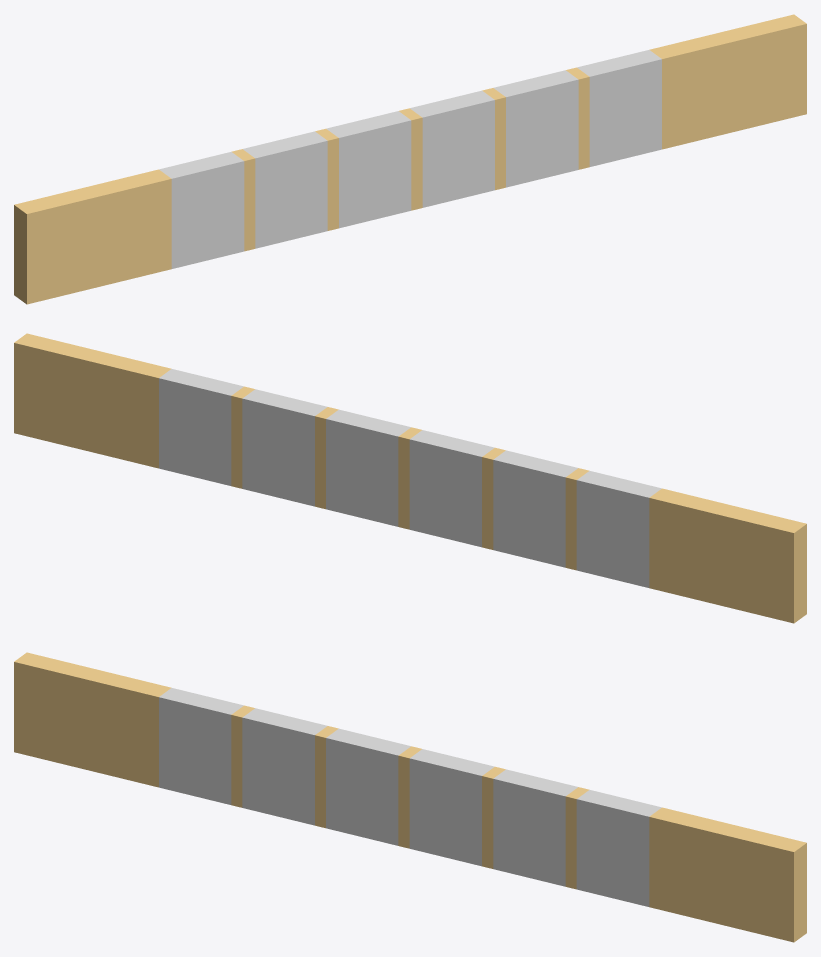
The model's file is sensor-gate.glb.
3 views of the same model, one above another, from view 1: azimuth 30°, elevation 25°; view 2: azimuth 150°, elevation 25°; view 3: azimuth 330°, elevation 25° (orthographic).
Parts seen in each view (by area): view 1: gate; view 2: gate; view 3: gate.
Part boxes in pixels (<box>): gate: <box>14,14,806,304</box>; gate: <box>14,333,806,623</box>; gate: <box>14,652,806,942</box>.
Size of the model in its own units: 0.7 by 0.0775 by 0.02.
